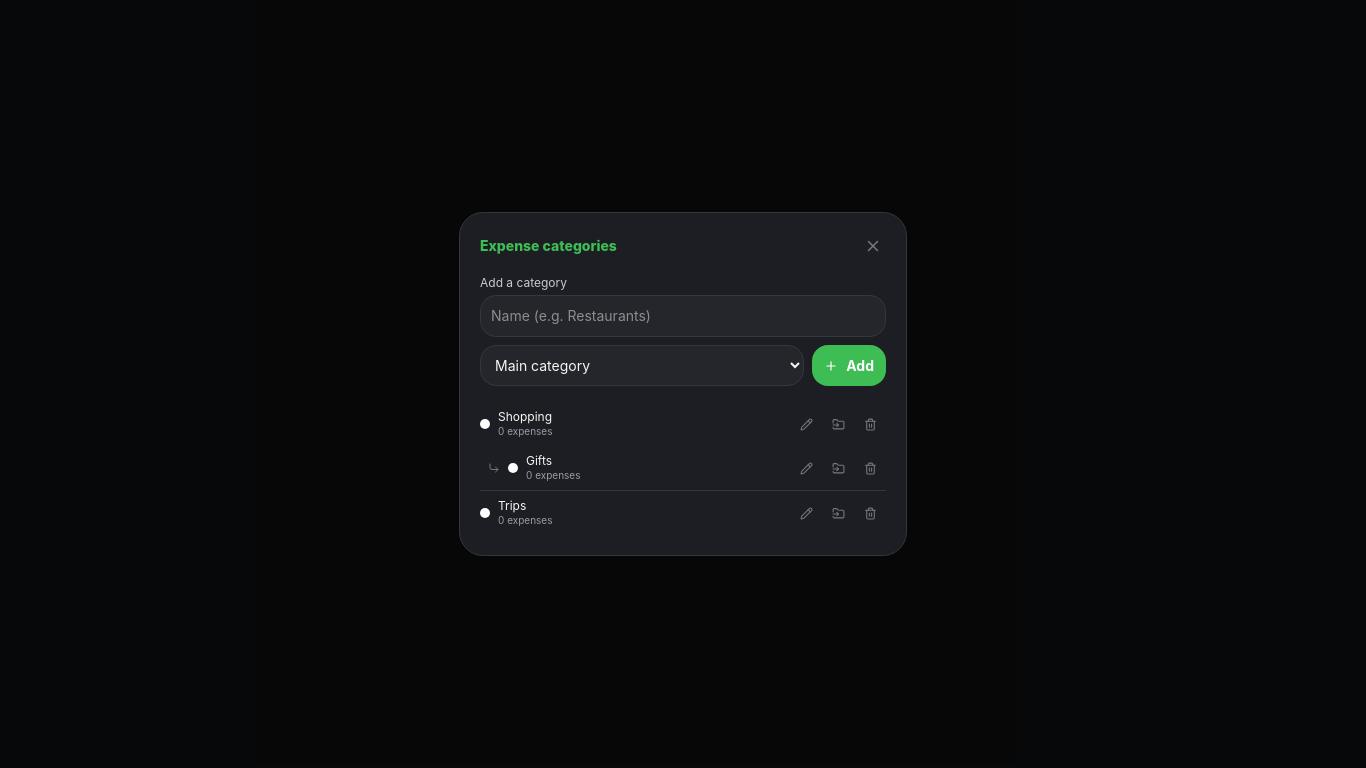
it: MONEY Manage: similar names › warns while renaming
The width and height of the screenshot is (1366, 768).
Click the button named "Rename Trips" at x=806, y=513, box [790, 497, 822, 529]
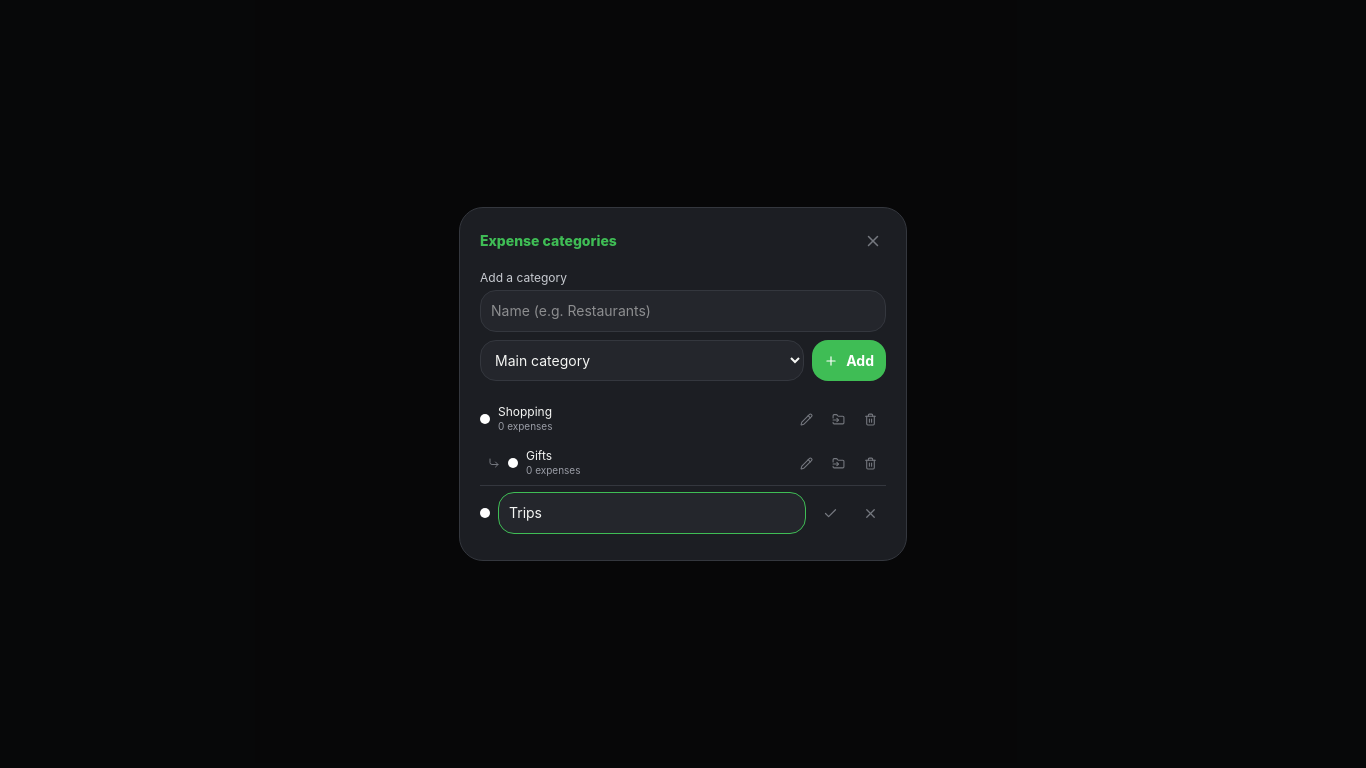
Replace the text in the field named "New name for Trips" with "Shoping" at x=652, y=513, box [498, 492, 806, 534]
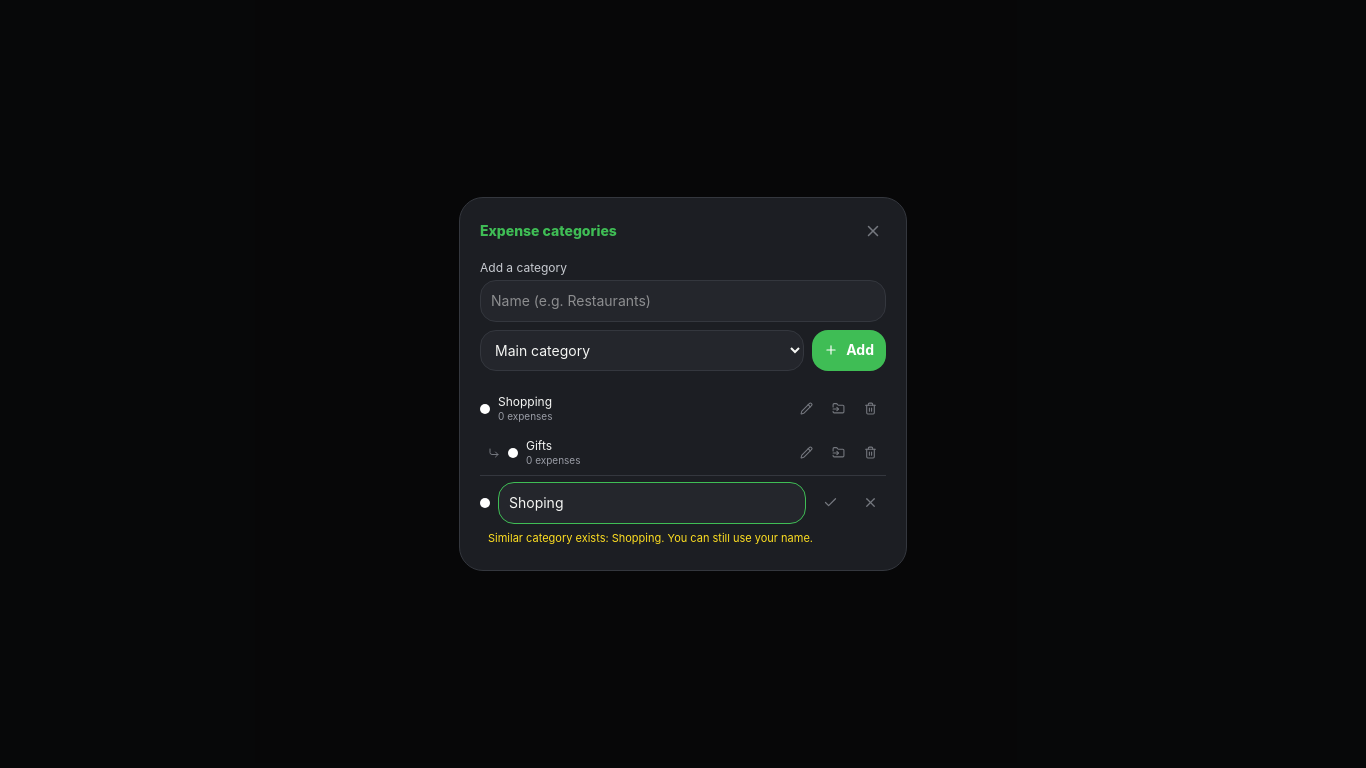
Expected: the text "Similar category exists: Shopping" is shown, [488, 531, 813, 545]
